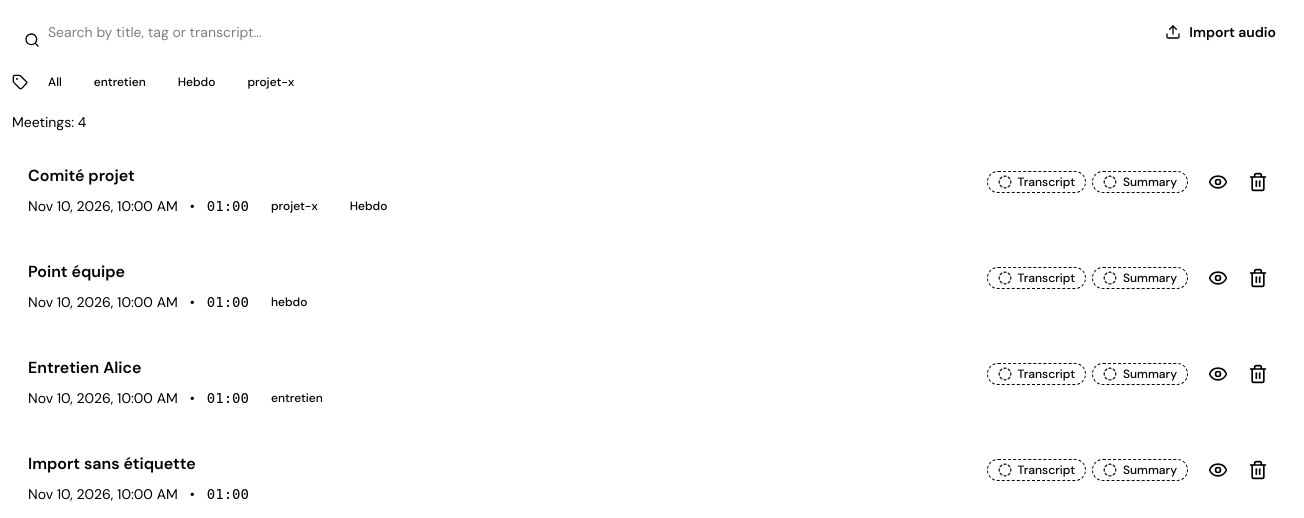
it: RecordingsTab — étiquettes › un clic sur l’étiquette d’une réunion filtre, un second clic retire le filtre
Click the button with aria-label "Filter by the “entretien” tag": (297, 398) [261,388,333,408]
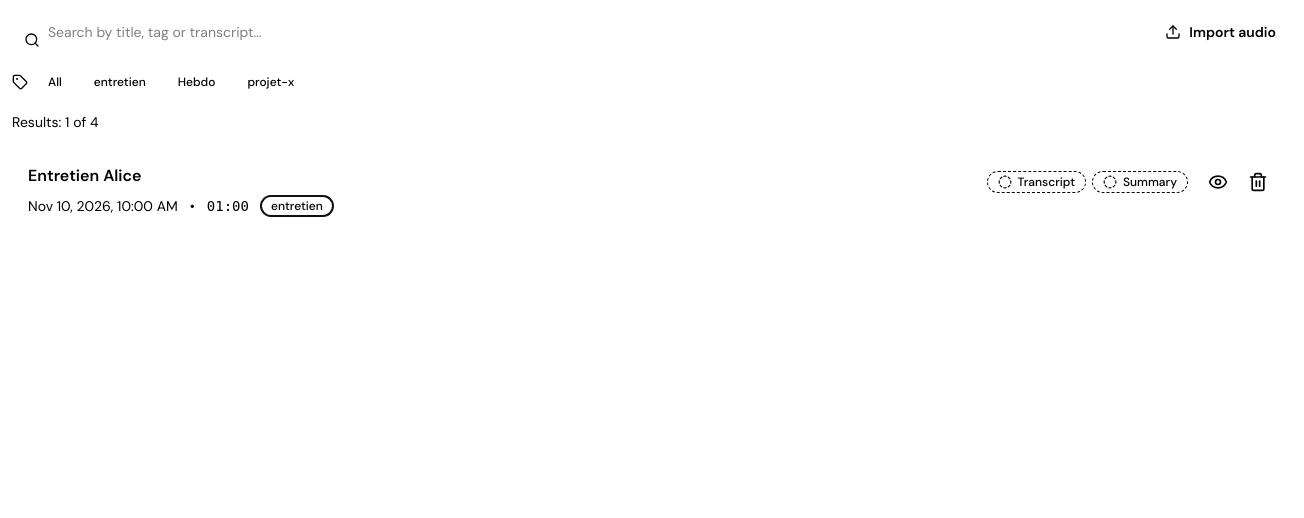
Click the button with aria-label "Filter by the “entretien” tag": (297, 206) [261,196,333,216]
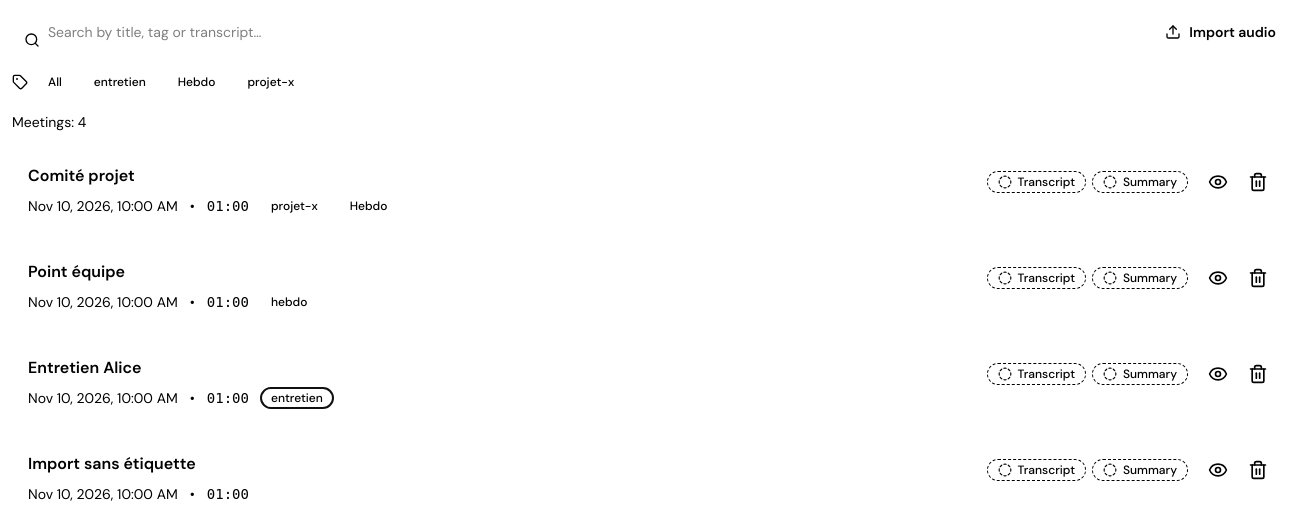
Now the number of headings is 4, box [28,165,135,186]; [28,261,125,282]; [28,357,142,378]; [28,453,196,474]
